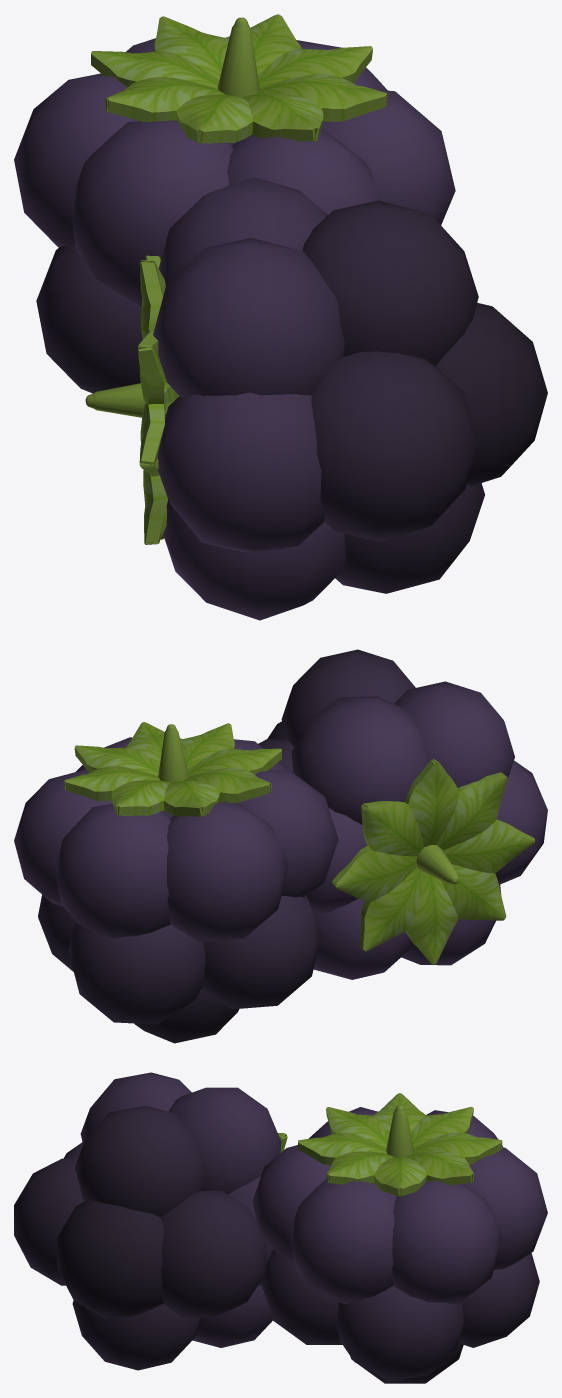
File: Blackberry.fbx
3 views of the same model, one above another, from view 1: azimuth 30°, elevation 25°; view 2: azimuth 150°, elevation 25°; view 3: azimuth 270°, elevation 25° (orthographic). The views are drawn at different scales.
Parts seen in each view (by area): view 1: Blackberry 2, Blackberry; view 2: Blackberry, Blackberry 2; view 3: Blackberry, Blackberry 2.
Boxes of the visible parts, <box> form: Blackberry 2: <box>85,177,547,620</box>; Blackberry: <box>14,14,455,393</box>; Blackberry: <box>14,722,338,1043</box>; Blackberry 2: <box>258,649,547,979</box>; Blackberry: <box>252,1093,547,1383</box>; Blackberry 2: <box>14,1072,287,1370</box>.
Bounding box in the file's own units: 7.05 × 5.99 × 10.35.
